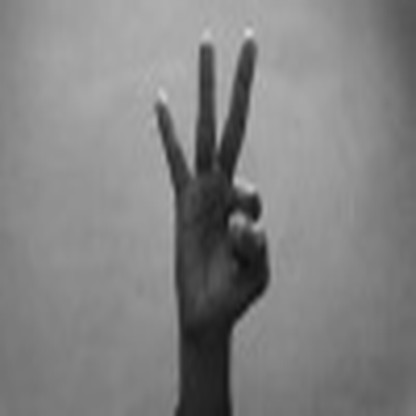f: (143, 25, 286, 315)
